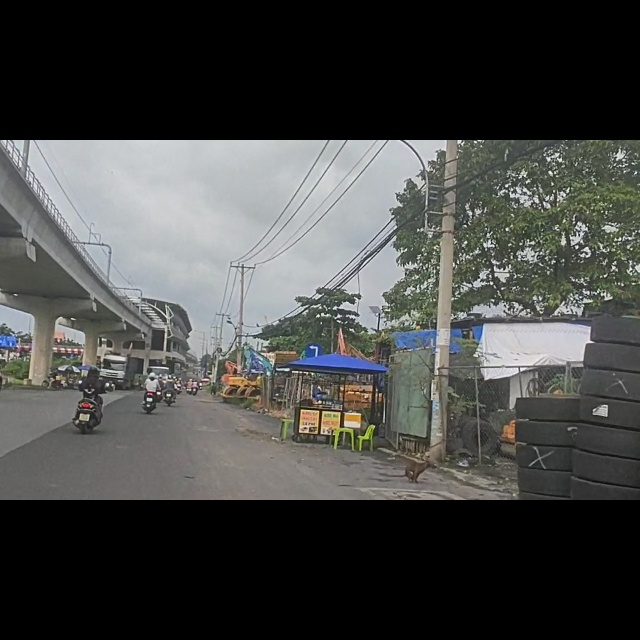bien_chi_dan: (306, 361, 322, 389)
